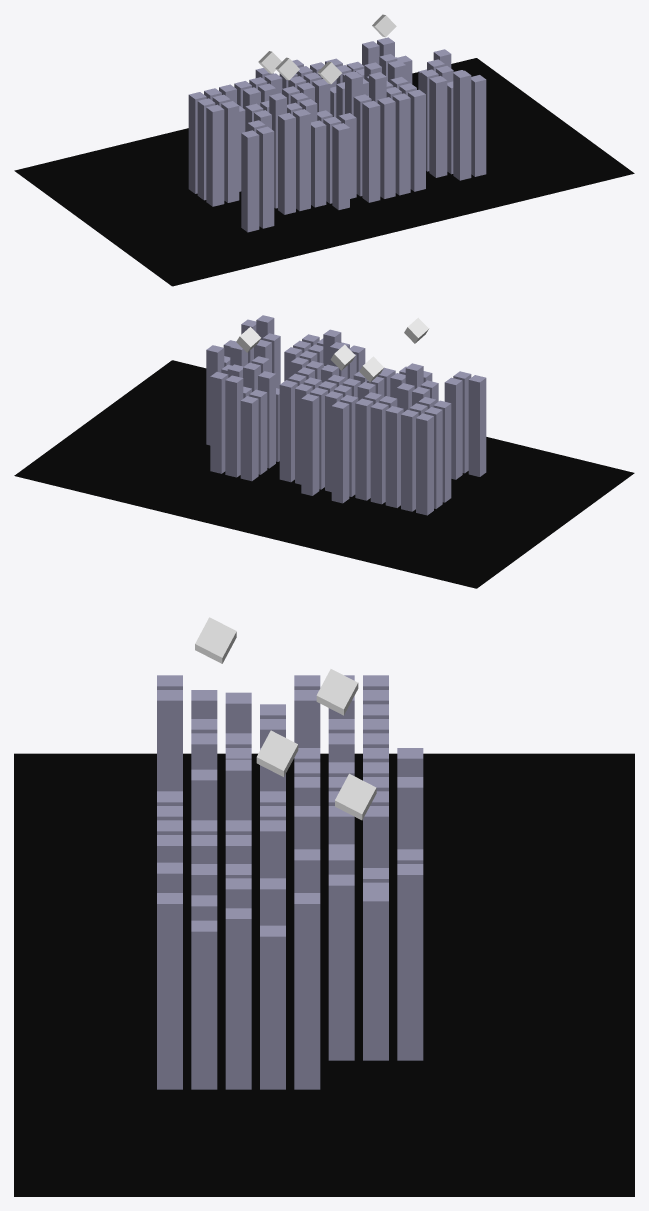
File: ps2_baked_black.glb
3 renders of one model, top to bottom at view 1: azimuth 30°, elevation 25°; view 2: azimuth 150°, elevation 25°; view 3: azimuth 270°, elevation 25°, orthographic. The views are drawn at different scales.
Parts seen in each view (by area): view 1: Plane, Grid; view 2: Plane, Grid; view 3: Plane, Grid, Cube.001, Cube.004, Cube.002, Cube.003.
Boxes of the visible parts, box(x1,y1,x2,y2) form: Plane: box(14, 58, 634, 286); Grid: box(188, 37, 486, 232); Plane: box(14, 360, 634, 588); Grid: box(206, 315, 486, 515); Plane: box(14, 753, 634, 1196); Grid: box(157, 675, 423, 1089); Cube.001: box(316, 669, 358, 715); Cube.004: box(256, 730, 298, 776); Cube.002: box(335, 773, 376, 820); Cube.003: box(195, 617, 236, 663).
Size of the model in its own units: 20.36 by 6.38 by 12.06.
